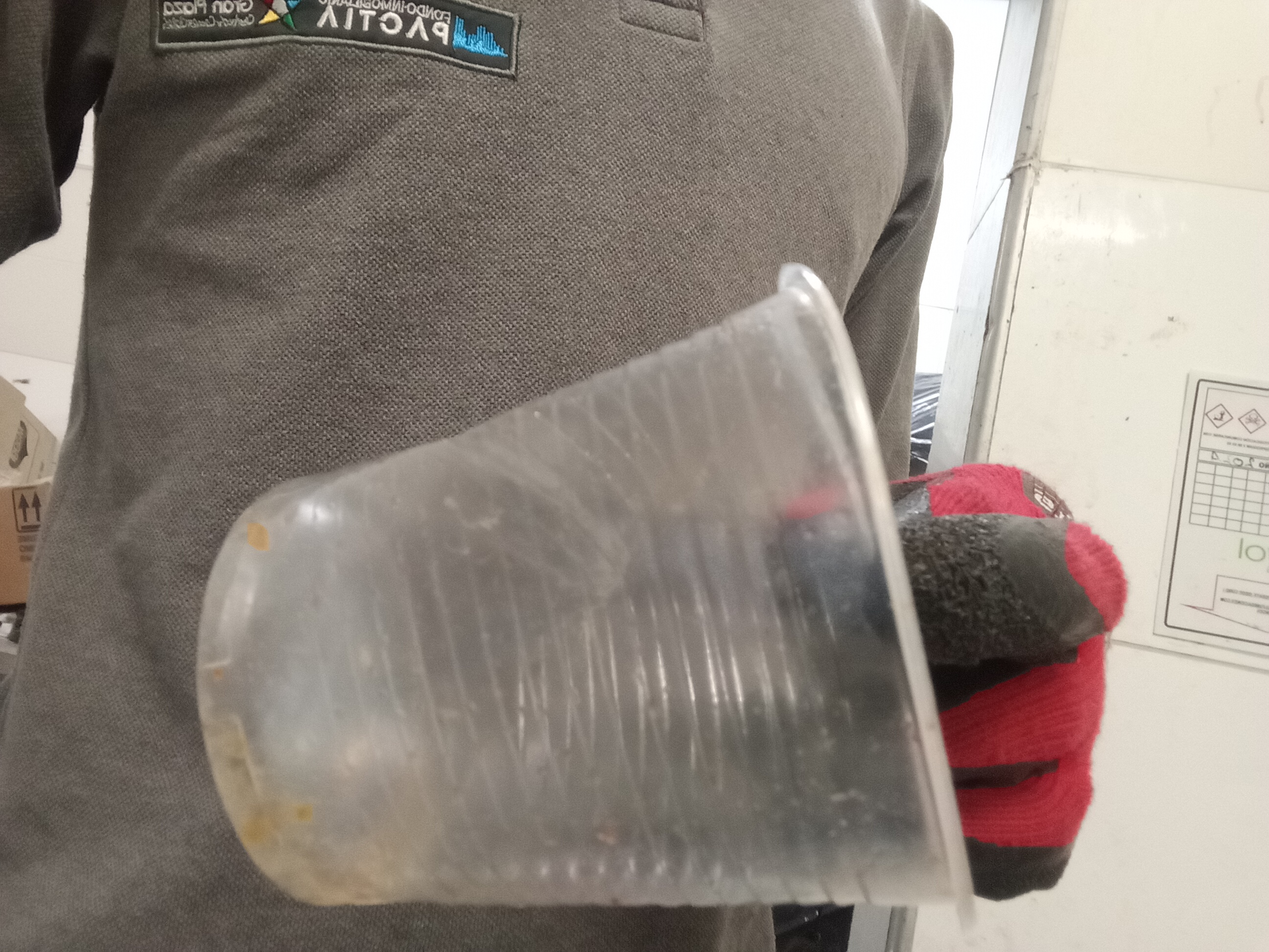Plastico: (192, 259, 980, 928)
